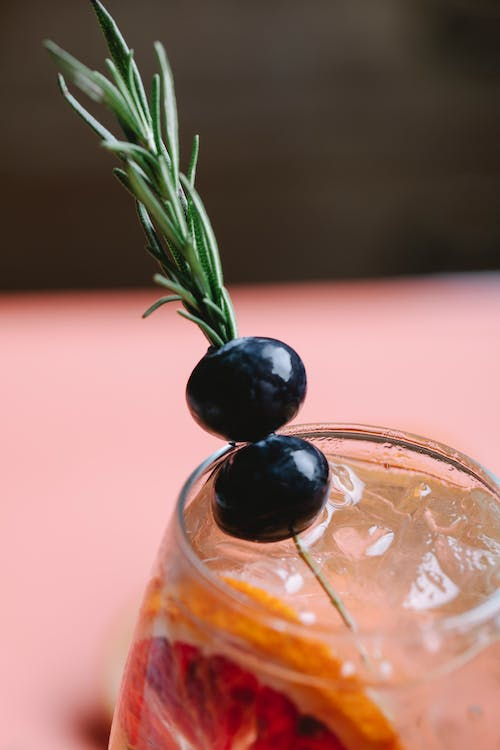alcohol: (99, 420, 500, 750)
